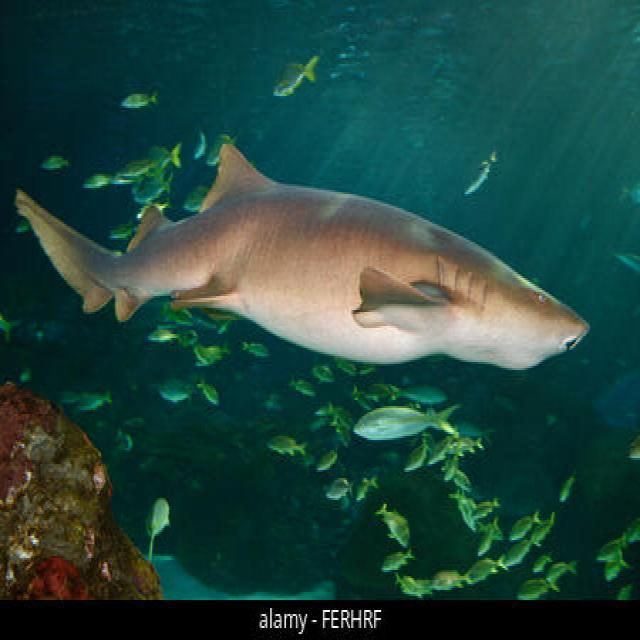Shark: (15, 58, 598, 416)
